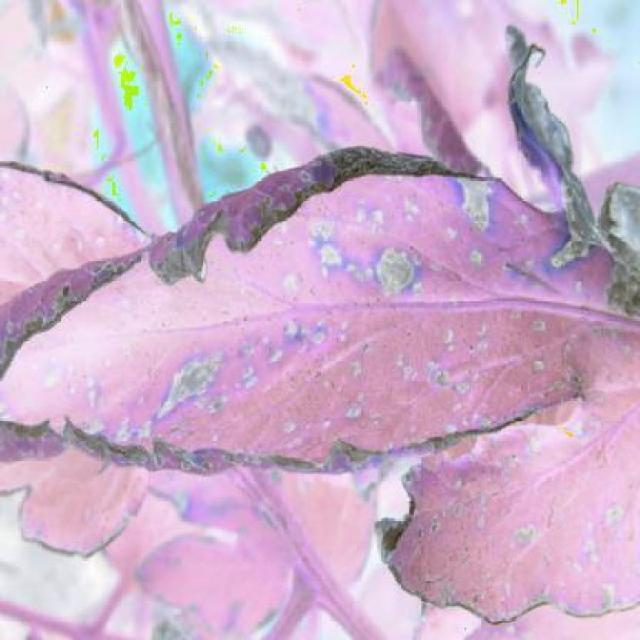Septoria leaf spot: (9, 124, 636, 626)
